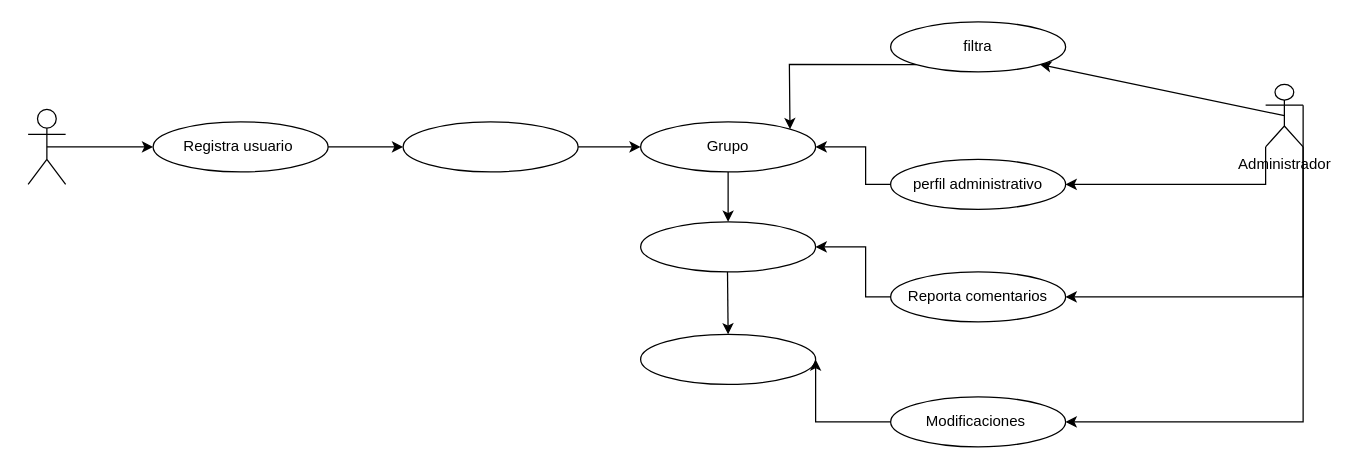
The diagram is 1353 pixels wide and 469 high, and some of its shapes have lost their labels. The centre of each missing label's shape, as x and y in pixels:
mensajes: (727,246)
perfil: (490,146)
sugiere: (727,358)
Usuario: (46,146)
